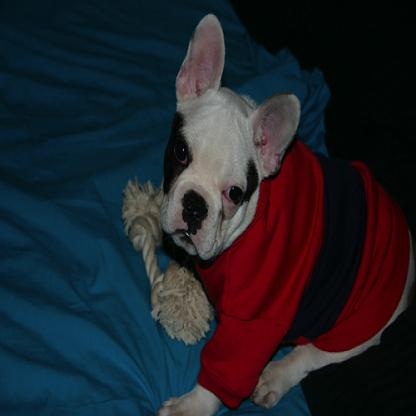French_bulldog: (158, 10, 414, 413)
